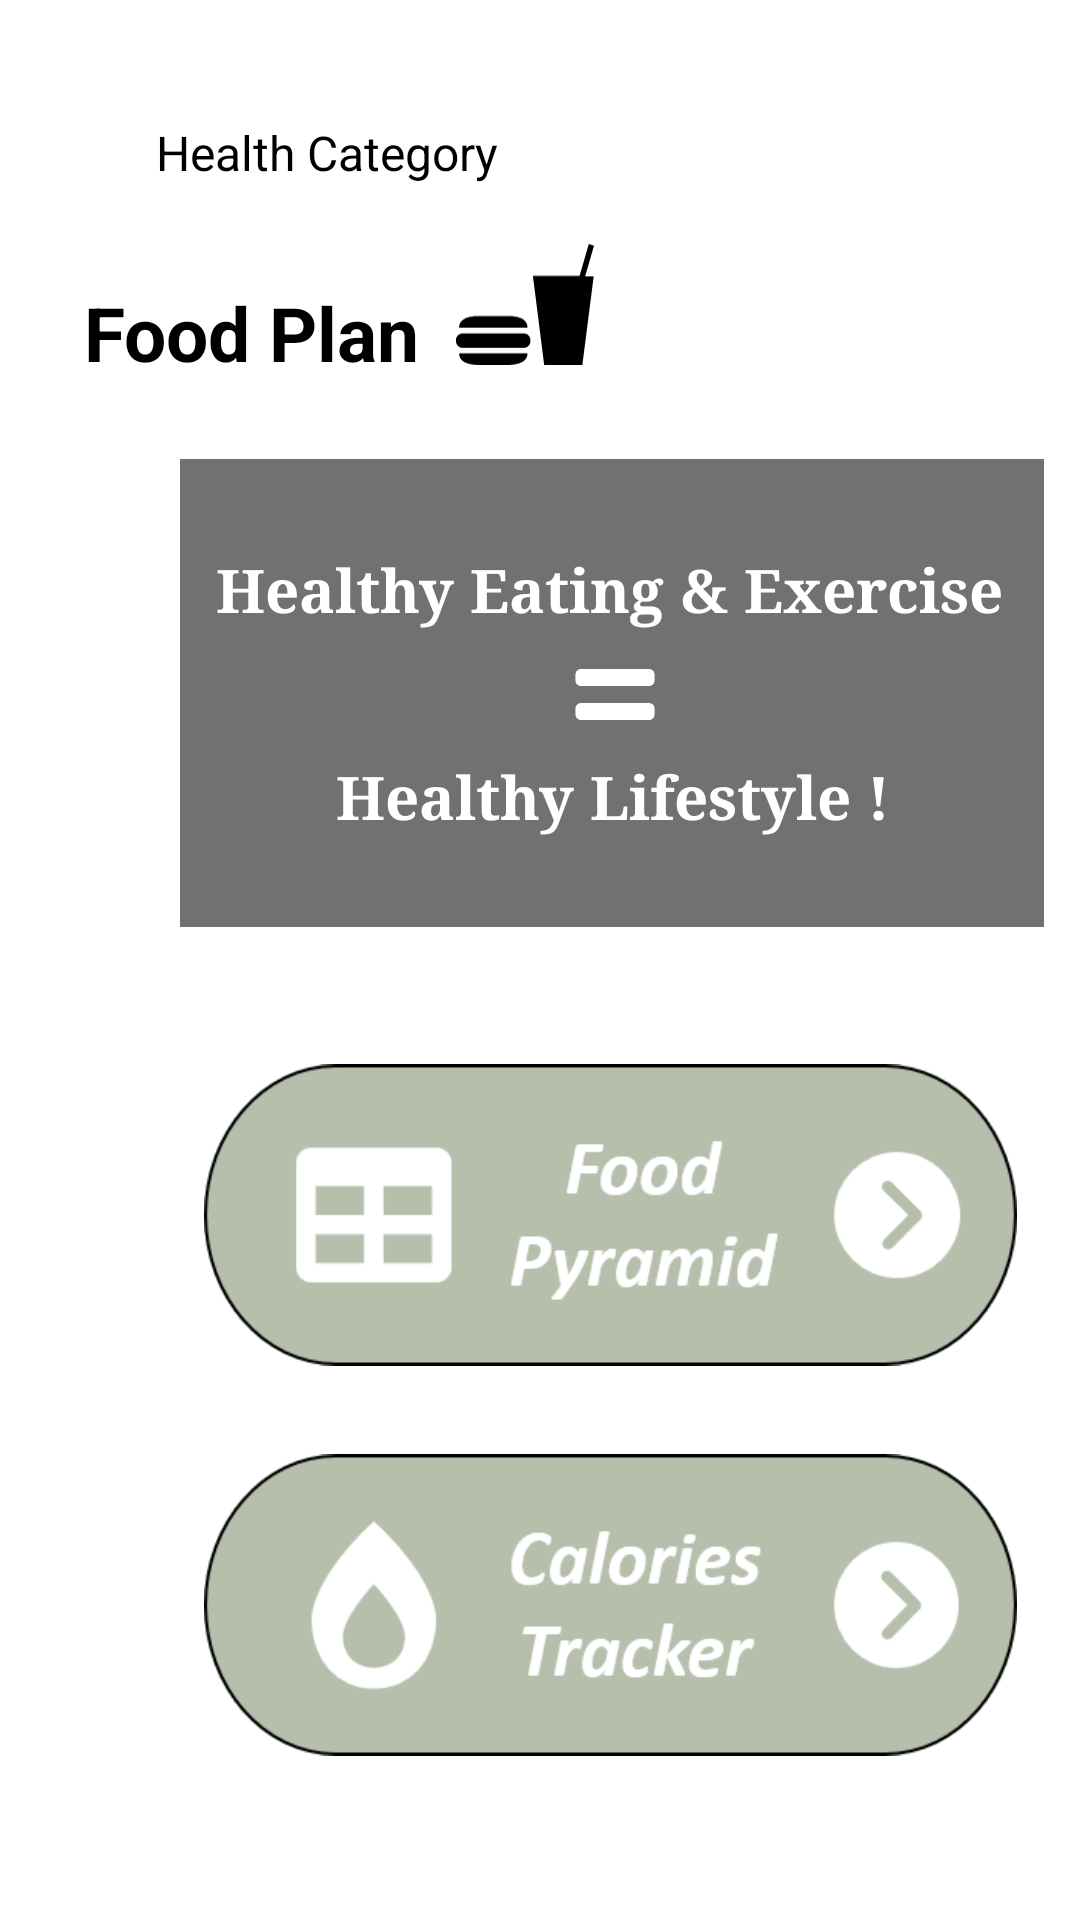

Where icons sit on this 1080px×1920px app screen, as (x1, y1, x2, y2):
fastfood: (456, 244, 594, 365)
